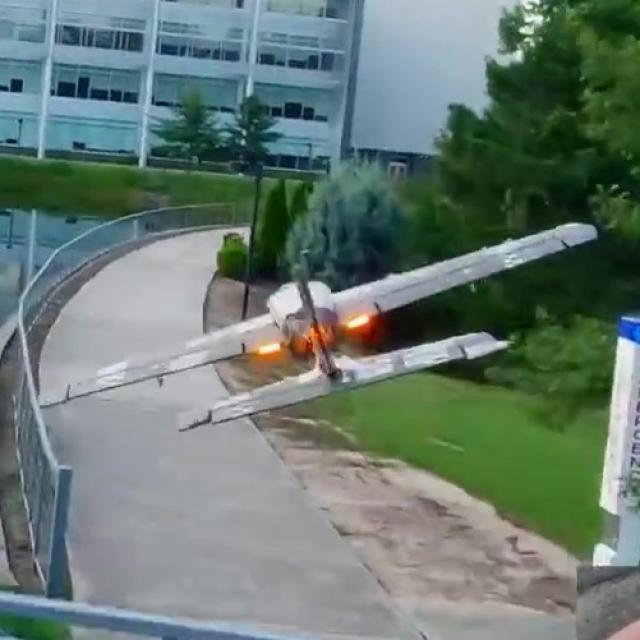iha: (40, 212, 601, 429)
